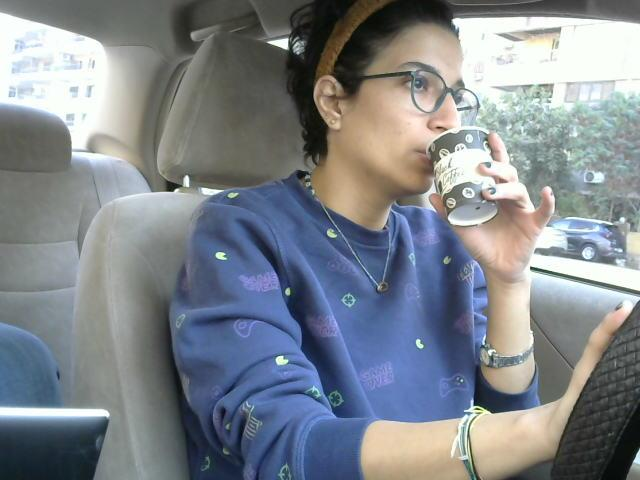Drinking: (314, 22, 527, 273)
